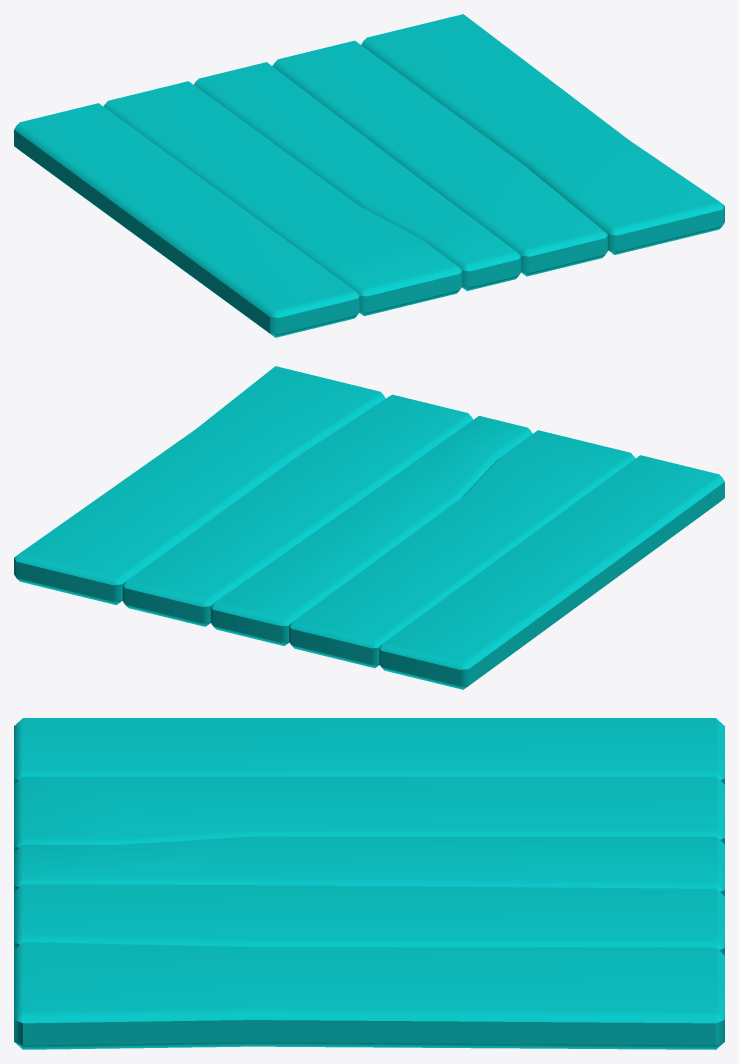
Rendered from Cty_Bld_Raft02_Mod.fbx.
3 renders of one model, top to bottom at view 1: azimuth 30°, elevation 25°; view 2: azimuth 150°, elevation 25°; view 3: azimuth 270°, elevation 25°, orthographic. The views are drawn at different scales.
Parts seen in each view (by area): view 1: Cty_Bld_Raft02_Mod; view 2: Cty_Bld_Raft02_Mod; view 3: Cty_Bld_Raft02_Mod.
Part boxes in pixels (x1,y1,x2,y2): Cty_Bld_Raft02_Mod: (14, 14, 724, 337); Cty_Bld_Raft02_Mod: (14, 366, 724, 689); Cty_Bld_Raft02_Mod: (14, 718, 724, 1049).
Bounding box in the file's own units: 998 × 59.26 × 996.
